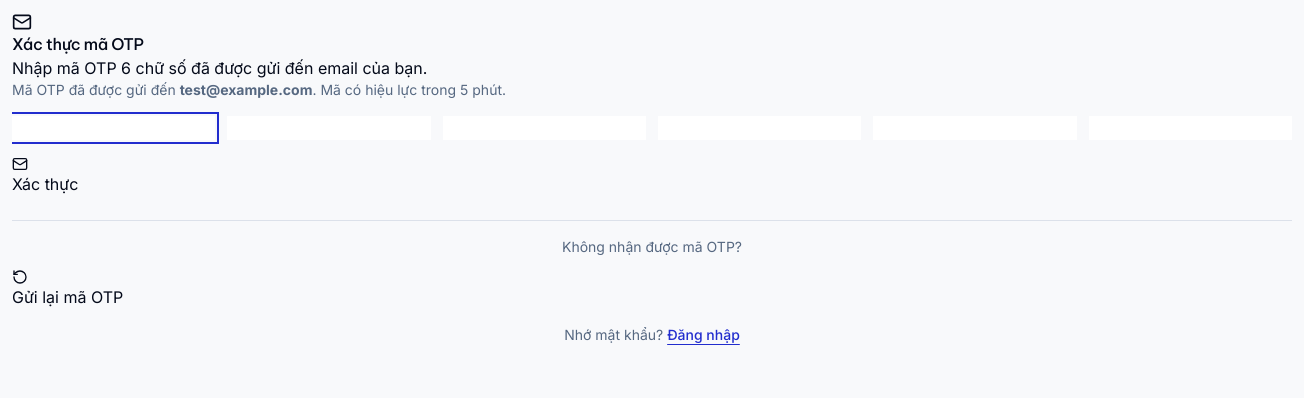
Test: VerifyResetOtpPage › shows truthful feedback for a backend cooldown/rate-limit response
The width and height of the screenshot is (1304, 398).
Click the button "Gửi lại mã OTP" at (68, 289), box [12, 269, 123, 309]
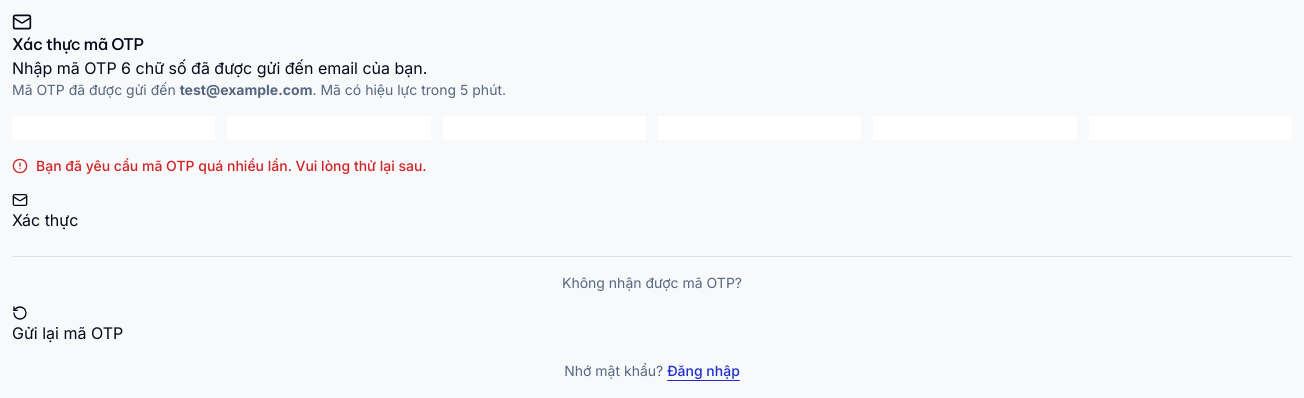
Check: the button "Gửi lại mã OTP" is enabled, box [12, 305, 123, 345]
Check: the text "Bạn đã yêu cầu mã OTP quá nhiều lần. Vui lòng thử lại sau." is shown, box [12, 157, 427, 174]
